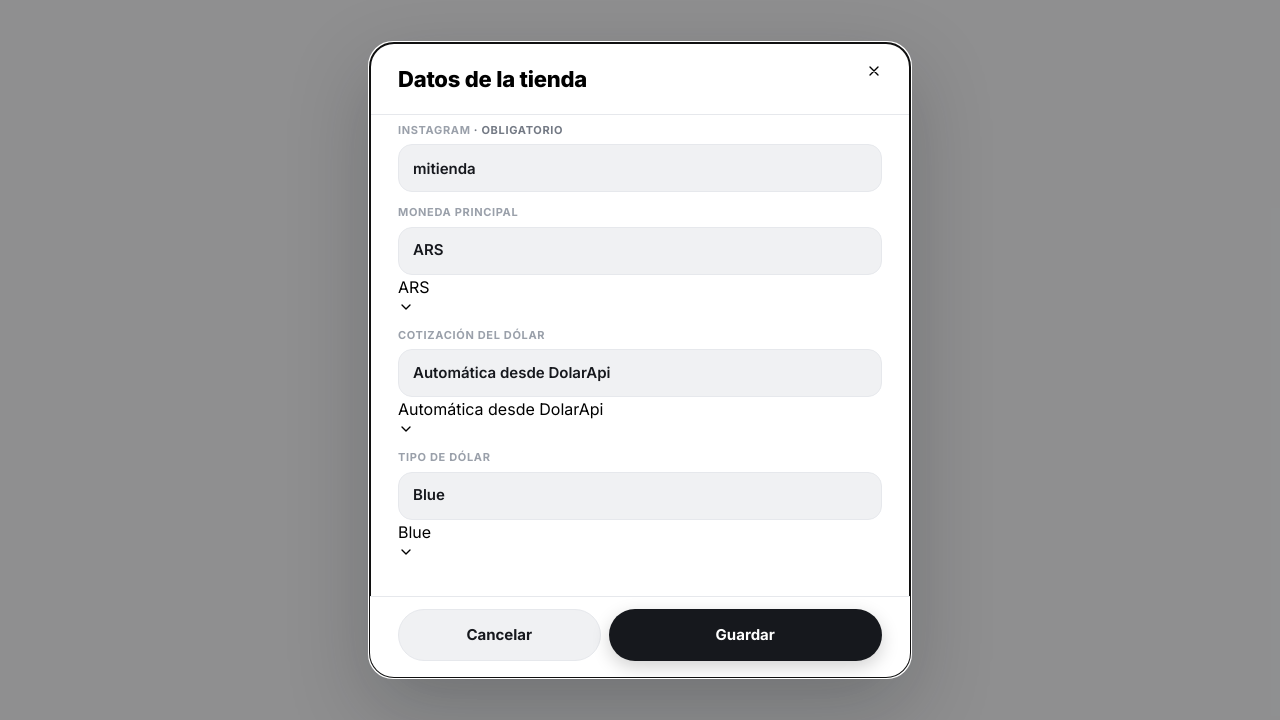
Test: store manual quote › clears the order error when the rates are corrected
(page scrolled)
Click the dropdown with test id "store-exchange-mode": [501, 417] box [398, 397, 603, 437]
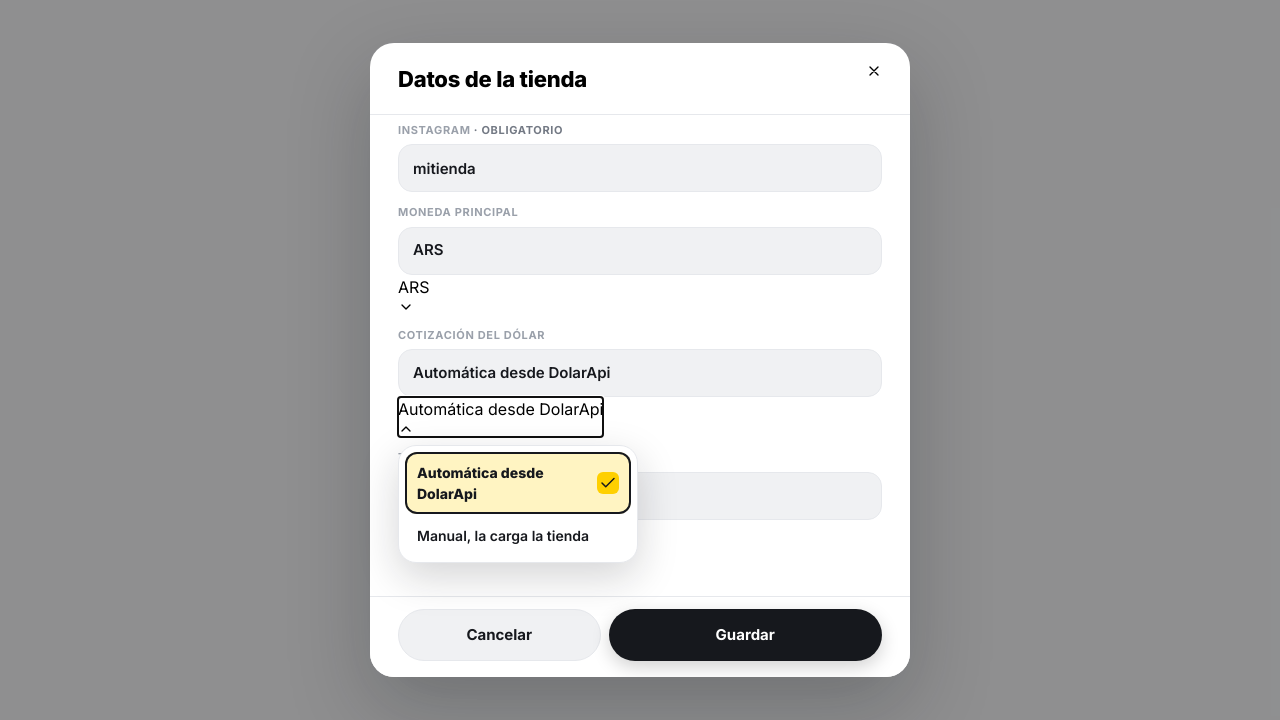
Click the option "Manual, la carga la tienda": [503, 535] box [417, 527, 589, 544]
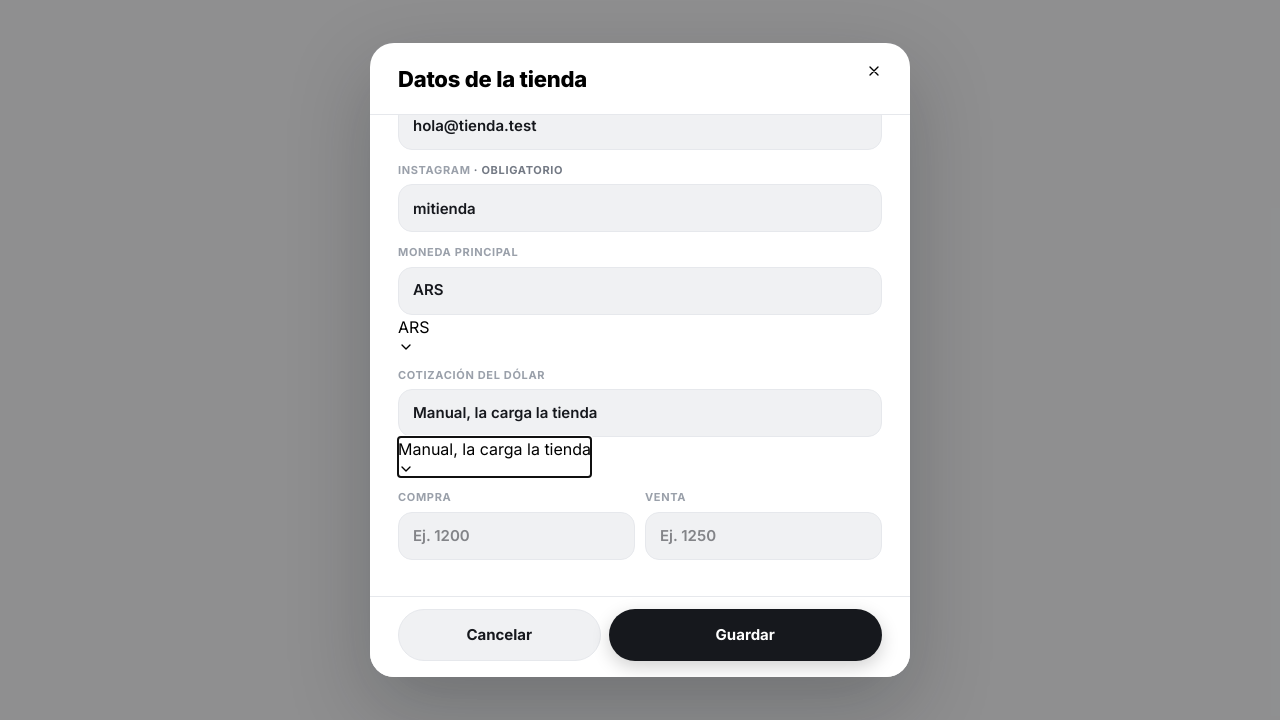
In the field with test id "store-manual-buy": [516, 536] box [398, 512, 635, 560], type "1.400"
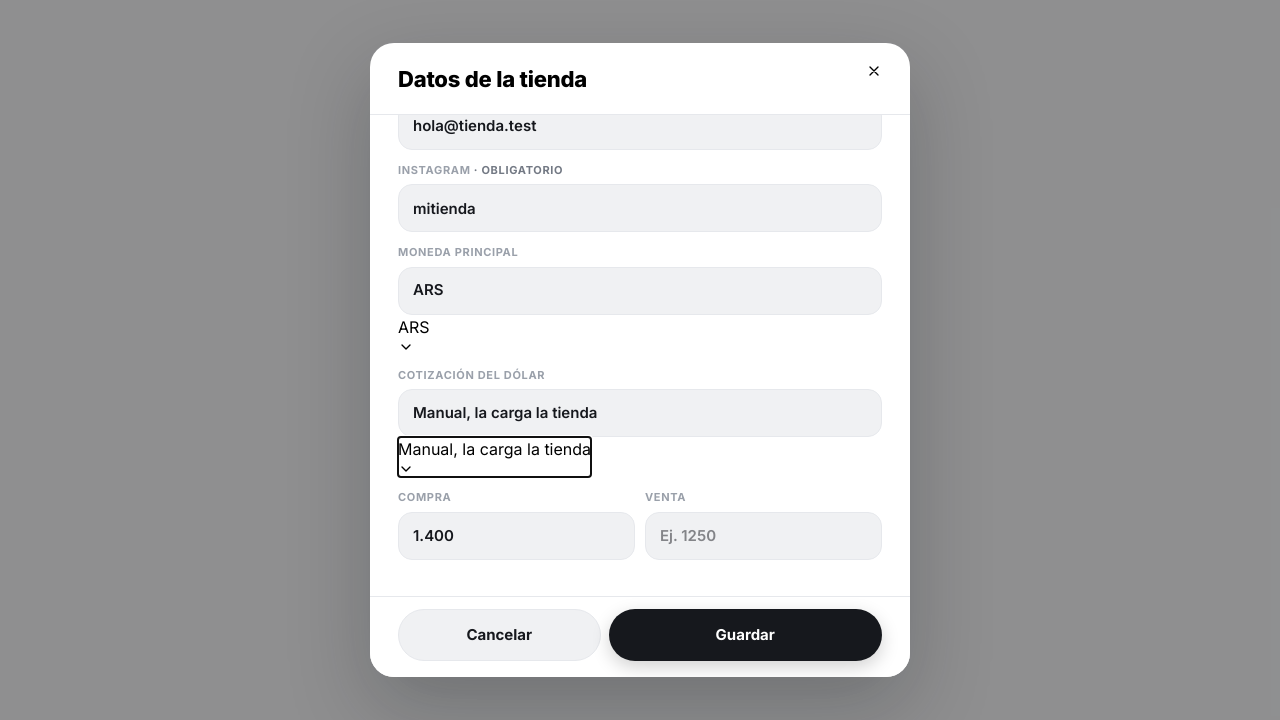
In the field with test id "store-manual-sell": [764, 536] box [645, 512, 882, 560], type "1.300"
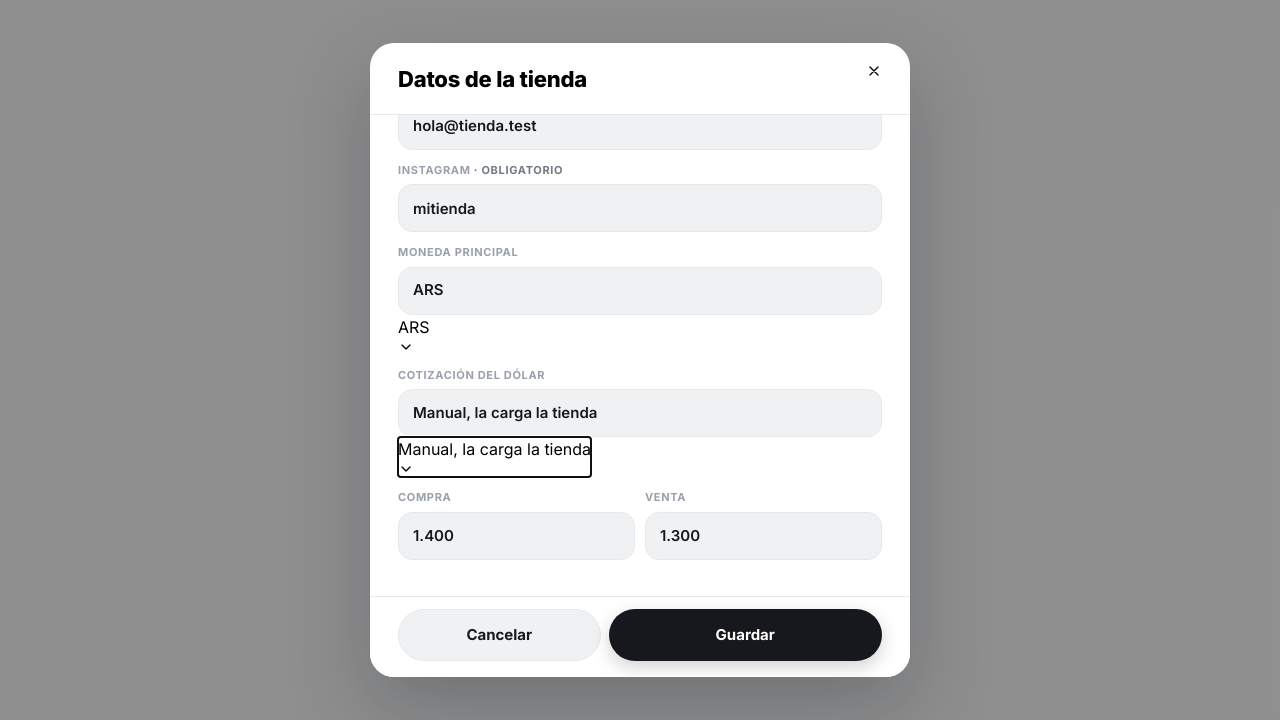
Click the button "Guardar": [745, 635] box [608, 609, 882, 661]
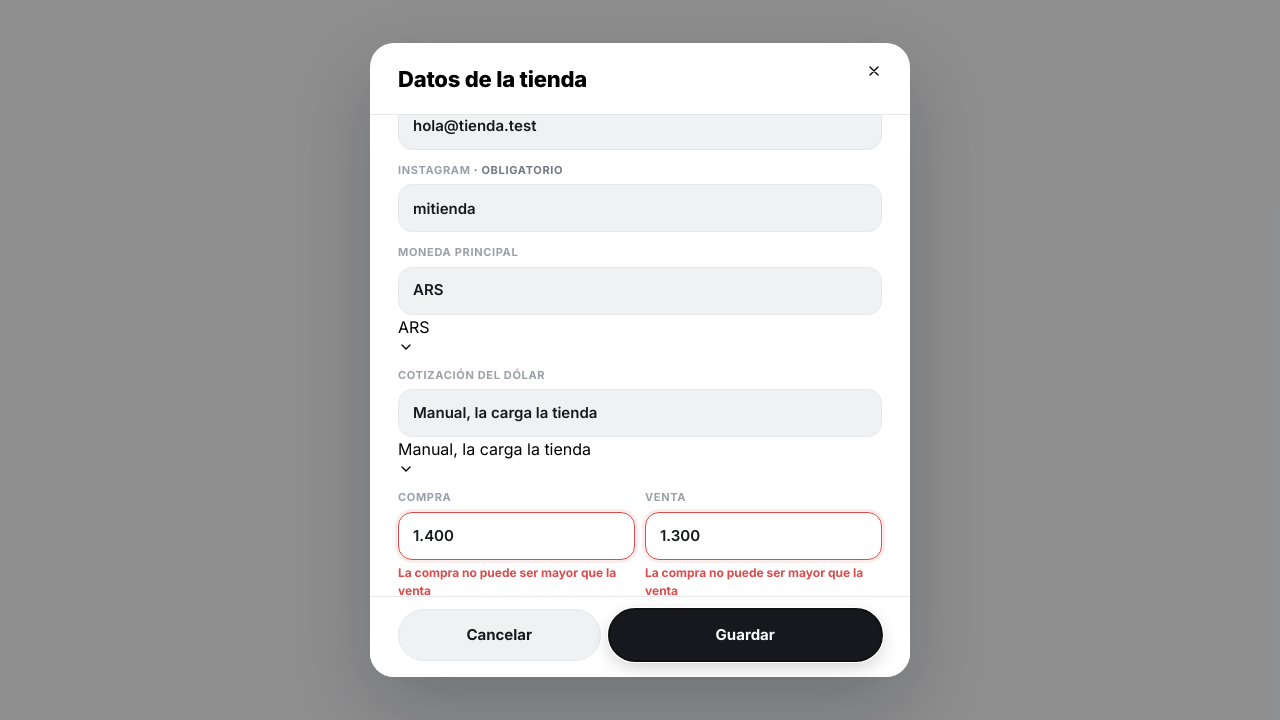
expect the text "La compra no puede ser mayor que la venta" is shown 2 times: met, box [398, 564, 635, 596]; [645, 564, 882, 596]
Replace the text in the field with test id "store-manual-sell" with "1500": [764, 536] box [645, 512, 882, 560]
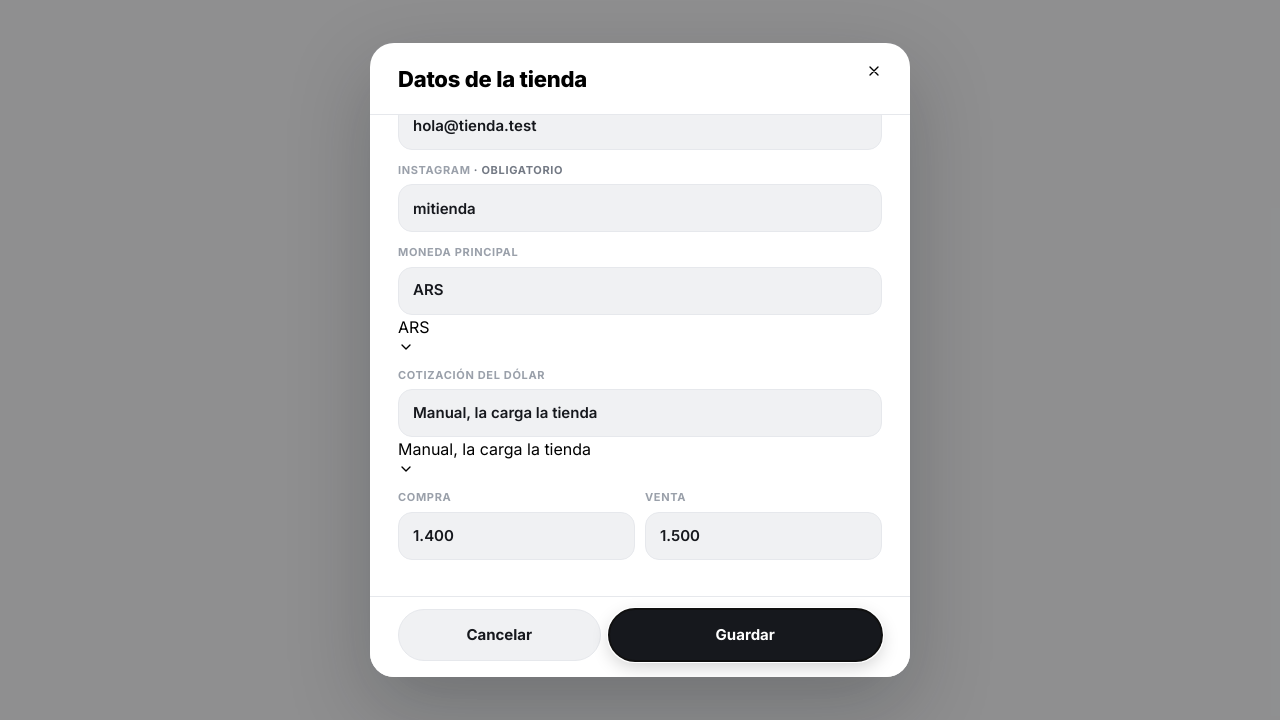
expect the text "La compra no puede ser mayor que la venta" is gone: met
